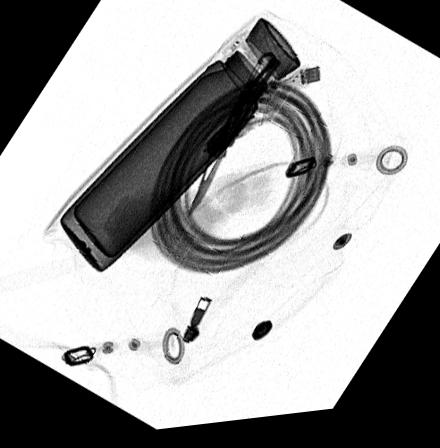Knife: (186, 56, 282, 224)
